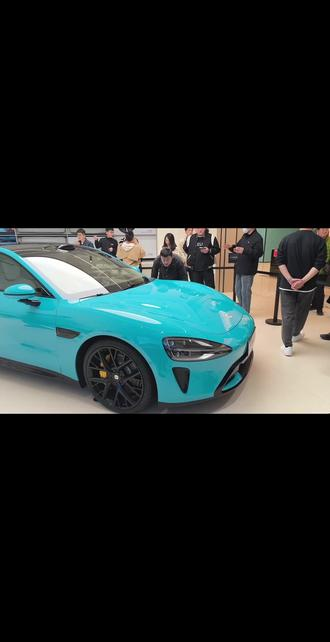su7: (0, 244, 258, 410)
